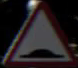Speed Breaker ahead: (5, 8, 68, 60)
